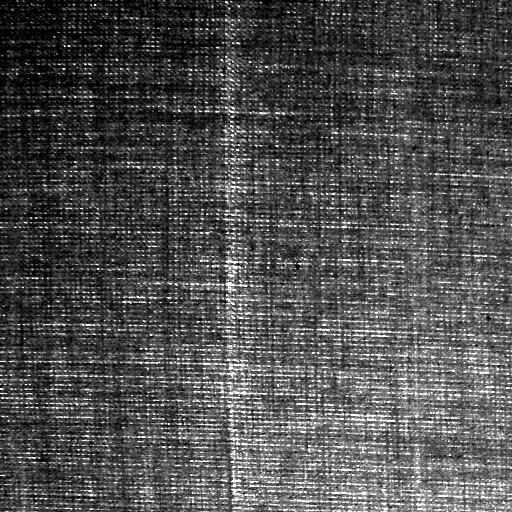fabric_missing_pick: (223, 8, 244, 499)
